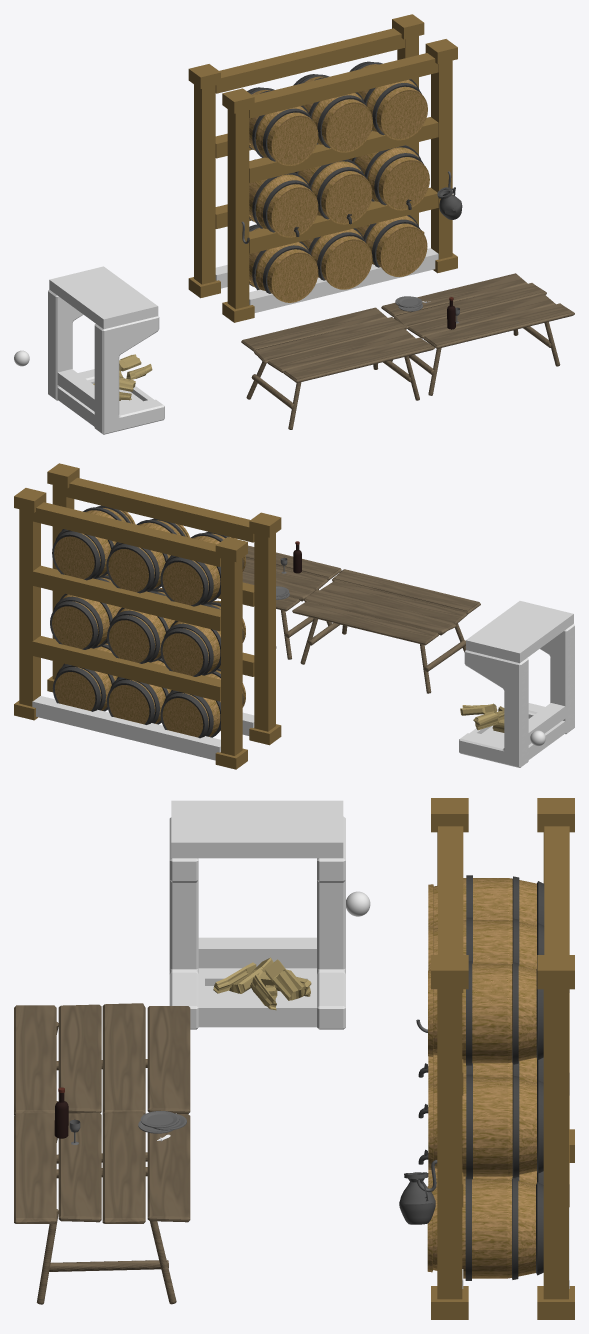
File: Dining Room .fbx
3 renders of one model, top to bottom at view 1: azimuth 30°, elevation 25°; view 2: azimuth 150°, elevation 25°; view 3: azimuth 270°, elevation 25°, orthographic. The views are drawn at different scales.
Visible parts, largest first — view 1: Cube.006, Cube.001, Cube.005, Plane.001, Plane.002, Plane, Plane.003, Circle.002, Cube.004, Circle.016, Cube.003, Circle.006 (+17 smaller); view 2: Cube.006, Cube.001, Cube.005, Cube.004, Cube.003, Plane, Cube.002, Plane.001, Circle.002, Circle.016, Circle.018, Circle.020 (+20 smaller); view 3: Cube.001, Cube.006, Plane, Plane.001, Plane.002, Plane.003, Circle.016, Circle.020, Circle.012, Cube.005, Circle.004, Circle.018 (+10 smaller).
Part boxes in pixels (x1,y1,x2,y2): Cube.006: (188, 14, 457, 322); Cube.001: (48, 266, 164, 434); Cube.005: (215, 28, 438, 118); Plane.001: (267, 328, 434, 382); Plane.002: (407, 294, 574, 348); Plane: (241, 307, 406, 363); Plane.003: (381, 273, 546, 329); Circle.002: (249, 174, 318, 237); Cube.004: (215, 117, 438, 182); Circle.016: (349, 147, 429, 210); Cube.003: (215, 187, 438, 253); Circle.006: (249, 227, 318, 302); Cube.006: (14, 463, 281, 769); Cube.001: (459, 601, 574, 767); Cube.005: (32, 477, 254, 566); Cube.004: (32, 565, 254, 631); Cube.003: (32, 636, 254, 701); Plane: (292, 589, 456, 645); Cube.002: (32, 696, 254, 760); Plane.001: (320, 569, 480, 624); Circle.002: (162, 600, 245, 675); Circle.016: (52, 574, 121, 648); Circle.018: (108, 520, 189, 592); Circle.020: (54, 508, 135, 579); Cube.001: (169, 800, 345, 1029); Cube.006: (431, 798, 574, 1319); Plane: (102, 1003, 190, 1114); Plane.001: (14, 1004, 101, 1115); Plane.002: (14, 1112, 101, 1223); Plane.003: (102, 1111, 190, 1223); Circle.016: (428, 1077, 536, 1176); Circle.020: (428, 963, 536, 1063); Circle.012: (427, 1179, 535, 1278); Cube.005: (438, 826, 569, 992); Circle.004: (428, 878, 536, 928); Circle.018: (428, 920, 536, 970).
Size of the model in its own units: 6746 by 3076 by 4446.
